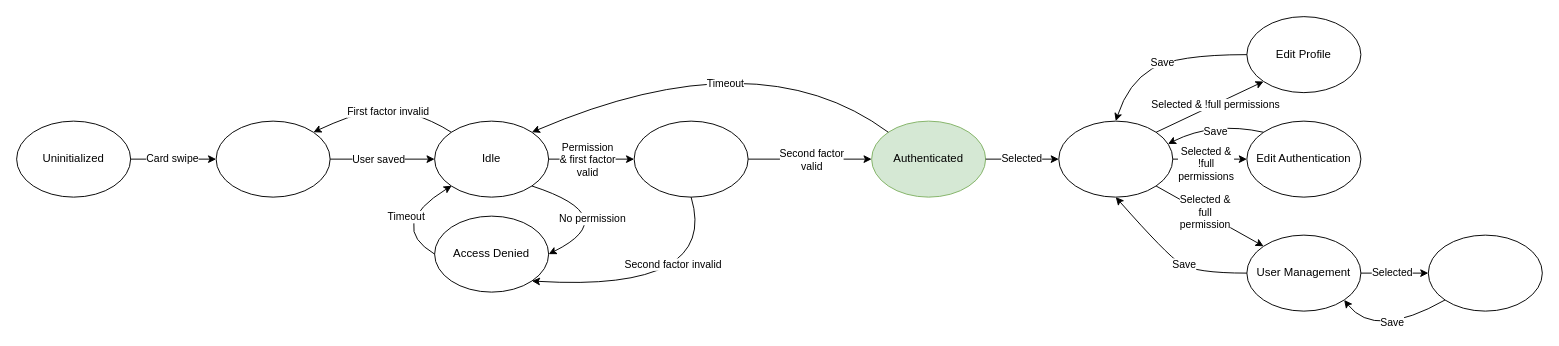
Image size: 1559x346. Some labels were removed from this diagram. The box of each missing label's shape, as (x1, y1, x2, y2) in pixels:
Add User: (1427, 234, 1542, 311)
Initializing: (215, 120, 330, 197)
Second Factor: (633, 120, 748, 197)
User Options: (1058, 120, 1173, 197)
